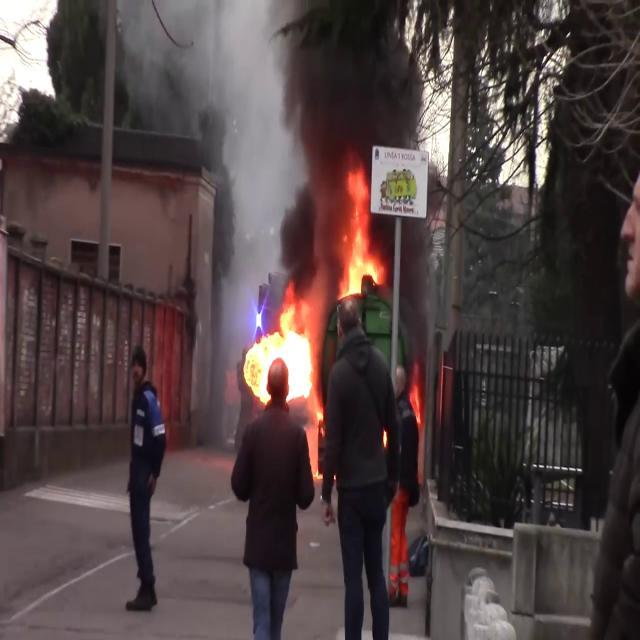Fire: (242, 293, 321, 411), (338, 162, 384, 304)
Smoke: (263, 1, 421, 268)
